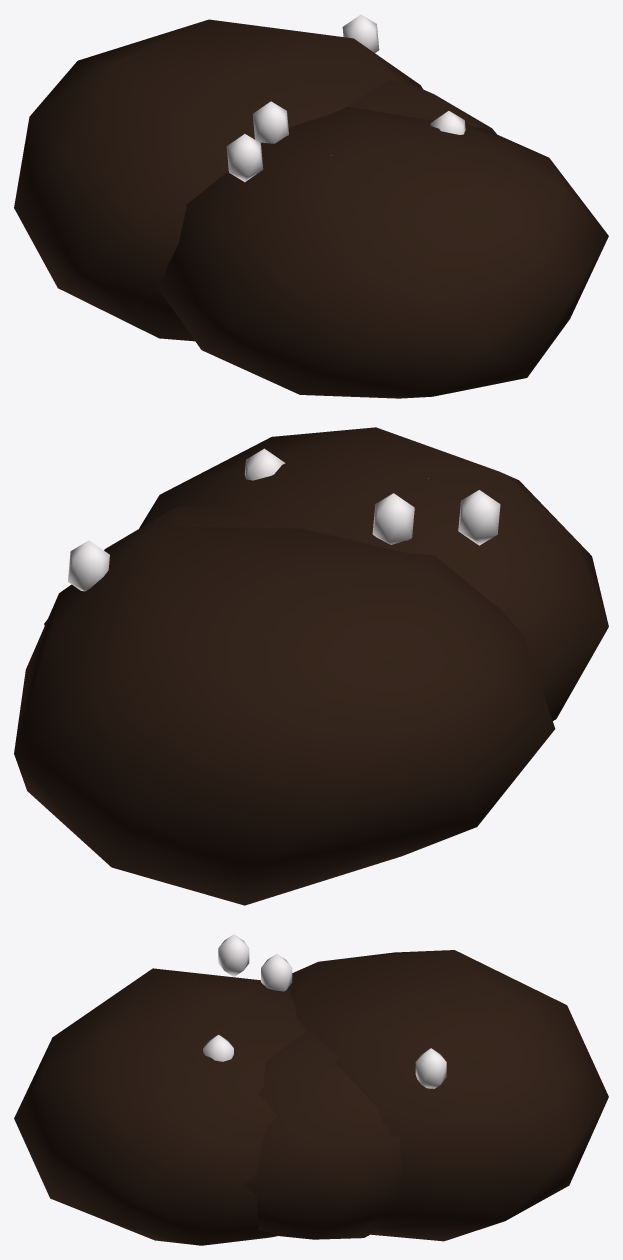
File: crop_berseem.glb
The picture shows the model from 3 angles, top to bottom: view 1: azimuth 30°, elevation 25°; view 2: azimuth 150°, elevation 25°; view 3: azimuth 270°, elevation 25°; orthographic projection. The views are drawn at different scales.
Visible parts, largest first — view 1: crop_berseem_outline, crop_berseem; view 2: crop_berseem_outline, crop_berseem; view 3: crop_berseem_outline, crop_berseem.
Boxes of the visible parts, x1,y1,x2,y2 form: crop_berseem_outline: (14,19,608,398); crop_berseem: (226,14,465,181); crop_berseem_outline: (14,427,608,905); crop_berseem: (68,448,500,591); crop_berseem_outline: (14,950,608,1245); crop_berseem: (203,934,446,1088).
Bounding box in the file's own units: 0.6187 × 0.3908 × 0.8477.
